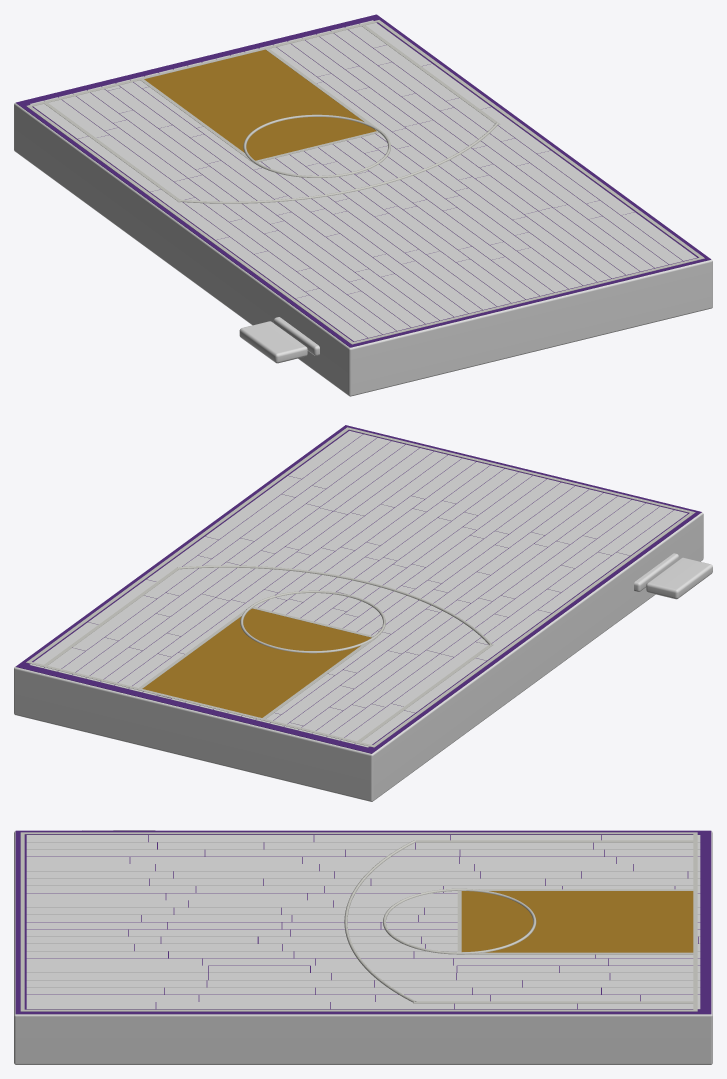
The model's file is court-c9f8d703.glb.
The picture shows the model from 3 angles, top to bottom: view 1: azimuth 30°, elevation 25°; view 2: azimuth 150°, elevation 25°; view 3: azimuth 270°, elevation 25°; orthographic projection. The views are drawn at different scales.
Parts seen in each view (by area): view 1: Inspect · Court · poured concrete pad, Inspect · Court · painted border, Inspect · Court · painted key, Inspect · Court · low stone approach, Inspect · Court · painted line.001, Inspect · Court · painted line.002, Inspect · Court · maple strip.101, Inspect · Court · maple strip.096, Inspect · Court · maple strip.106, Inspect · Court · maple strip.010, Inspect · Court · maple strip.116, Inspect · Court · maple strip.091 (+94 smaller); view 2: Inspect · Court · poured concrete pad, Inspect · Court · painted border, Inspect · Court · painted key, Inspect · Court · low stone approach, Inspect · Court · painted line.001, Inspect · Court · painted line.002, Inspect · Court · maple strip.101, Inspect · Court · maple strip.096, Inspect · Court · maple strip.106, Inspect · Court · maple strip.010, Inspect · Court · maple strip.116, Inspect · Court · maple strip.091 (+94 smaller); view 3: Inspect · Court · poured concrete pad, Inspect · Court · painted border, Inspect · Court · painted key, Inspect · Court · painted line.002, Inspect · Court · painted line.001, Inspect · Court · maple strip.101, Inspect · Court · maple strip.096, Inspect · Court · maple strip.106, Inspect · Court · maple strip.010, Inspect · Court · maple strip.008, Inspect · Court · maple strip.091, Inspect · Court · maple strip.109 (+105 smaller).
Part boxes in pixels (box(x1,y1,x2,y2)): Inspect · Court · poured concrete pad: box(14, 103, 712, 396); Inspect · Court · painted border: box(16, 14, 710, 347); Inspect · Court · painted key: box(144, 49, 376, 160); Inspect · Court · low stone approach: box(239, 321, 307, 363); Inspect · Court · painted line.001: box(26, 106, 354, 344); Inspect · Court · painted line.002: box(378, 21, 704, 258); Inspect · Court · maple strip.101: box(539, 207, 639, 274); Inspect · Court · maple strip.096: box(524, 211, 625, 278); Inspect · Court · maple strip.106: box(554, 205, 653, 271); Inspect · Court · maple strip.010: box(297, 268, 395, 334); Inspect · Court · maple strip.116: box(501, 138, 599, 203); Inspect · Court · maple strip.091: box(513, 216, 610, 281); Inspect · Court · poured concrete pad: box(14, 512, 703, 801); Inspect · Court · painted border: box(15, 425, 701, 753); Inspect · Court · painted key: box(142, 608, 371, 717); Inspect · Court · low stone approach: box(646, 557, 712, 599); Inspect · Court · painted line.001: box(371, 512, 695, 747); Inspect · Court · painted line.002: box(26, 429, 348, 663); Inspect · Court · maple strip.101: box(320, 444, 418, 510); Inspect · Court · maple strip.096: box(334, 448, 433, 514); Inspect · Court · maple strip.106: box(306, 441, 404, 506); Inspect · Court · maple strip.010: box(562, 503, 659, 568); Inspect · Court · maple strip.116: box(198, 494, 294, 558); Inspect · Court · maple strip.091: box(351, 451, 447, 515); Inspect · Court · poured concrete pad: box(14, 831, 712, 1064); Inspect · Court · painted border: box(15, 830, 711, 1014); Inspect · Court · painted key: box(461, 891, 693, 952); Inspect · Court · painted line.002: box(21, 1009, 697, 1011); Inspect · Court · painted line.001: box(24, 832, 693, 834); Inspect · Court · maple strip.101: box(26, 973, 208, 980); Inspect · Court · maple strip.096: box(26, 965, 207, 972); Inspect · Court · maple strip.106: box(26, 980, 206, 987); Inspect · Court · maple strip.010: box(26, 849, 204, 856); Inspect · Court · maple strip.008: box(416, 842, 592, 849); Inspect · Court · maple strip.091: box(26, 958, 202, 965); Inspect · Court · maple strip.109: box(523, 980, 700, 987).
Bounding box in the file's own units: 2.79 × 0.3325 × 4.
